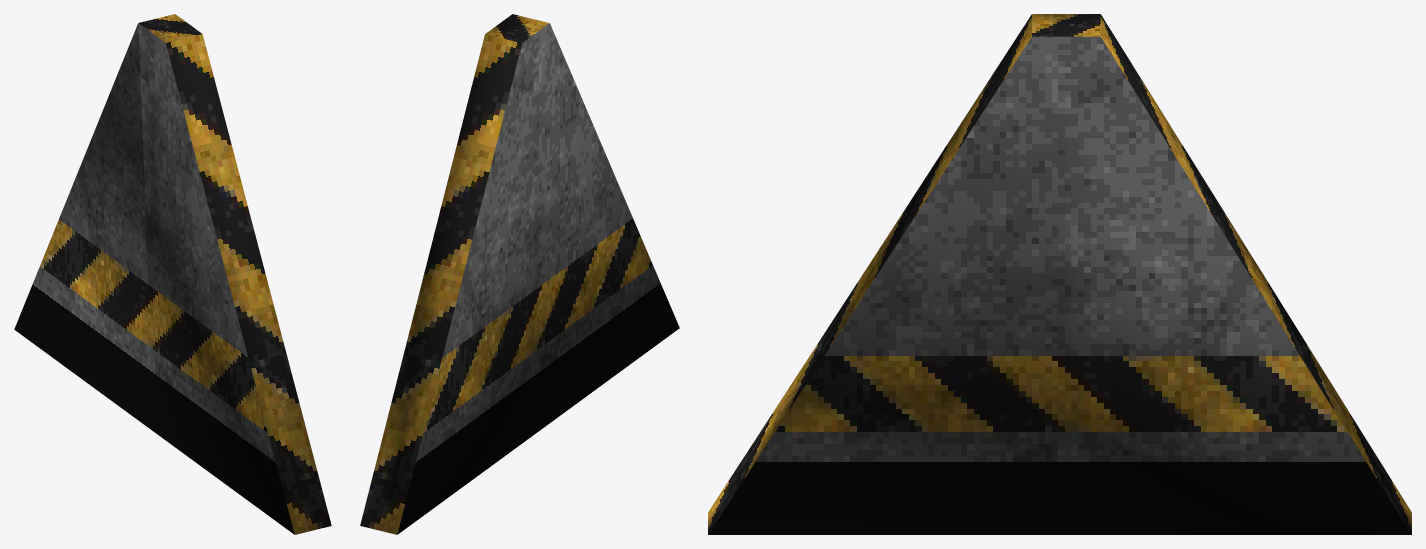
The model's file is Cylinder_hazard_side_down_door-col.glb.
3 renders of one model, left to right at view 1: azimuth 30°, elevation 25°; view 2: azimuth 150°, elevation 25°; view 3: azimuth 270°, elevation 25°, orthographic. The views are drawn at different scales.
Parts seen in each view (by area): view 1: Cylinder_hazard_side_down_door-col; view 2: Cylinder_hazard_side_down_door-col; view 3: Cylinder_hazard_side_down_door-col.
Boxes of the visible parts, box(x1,y1,x2,y2) form: Cylinder_hazard_side_down_door-col: box(14, 14, 331, 534); Cylinder_hazard_side_down_door-col: box(360, 14, 679, 534); Cylinder_hazard_side_down_door-col: box(708, 14, 1411, 534).
Bounding box in the file's own units: 0.1537 × 1.58 × 2.02.
Materials: 1 (1 with a texture image).
